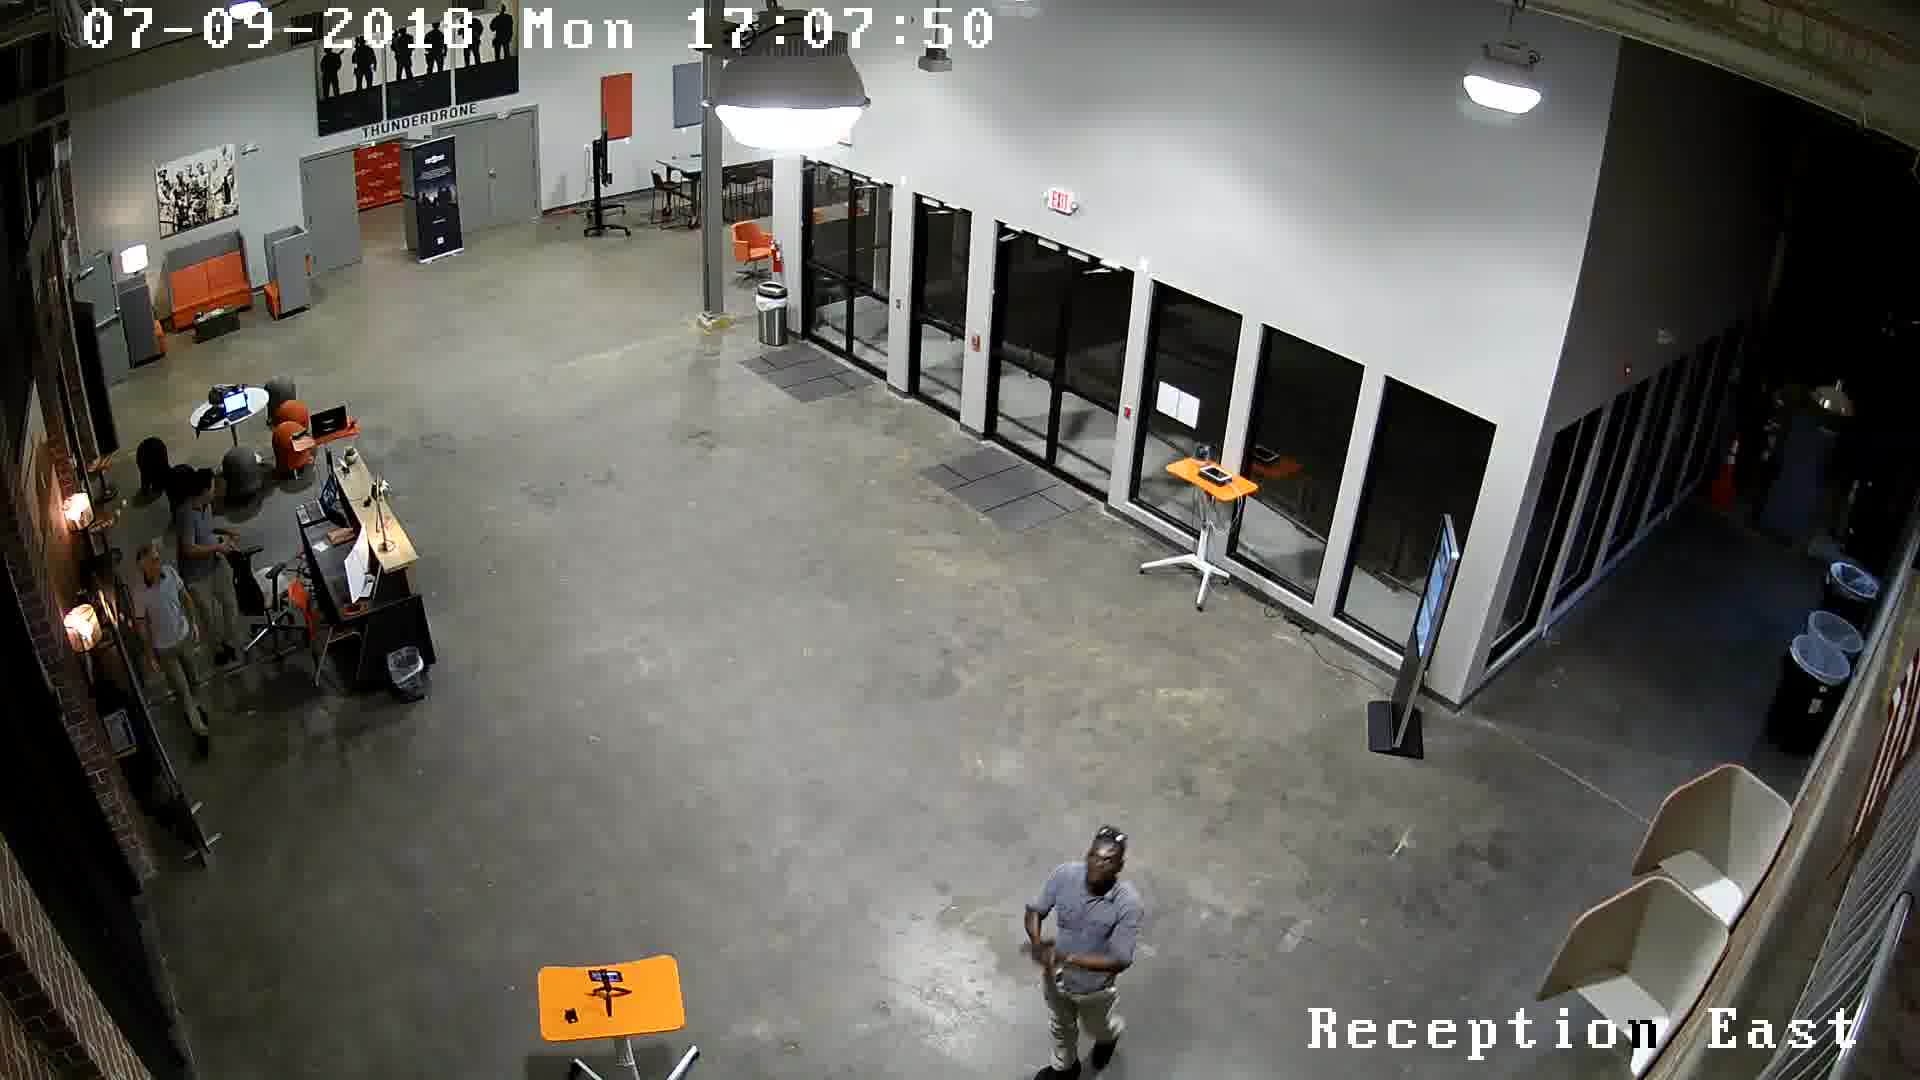pistol: (996, 923, 1072, 986)
